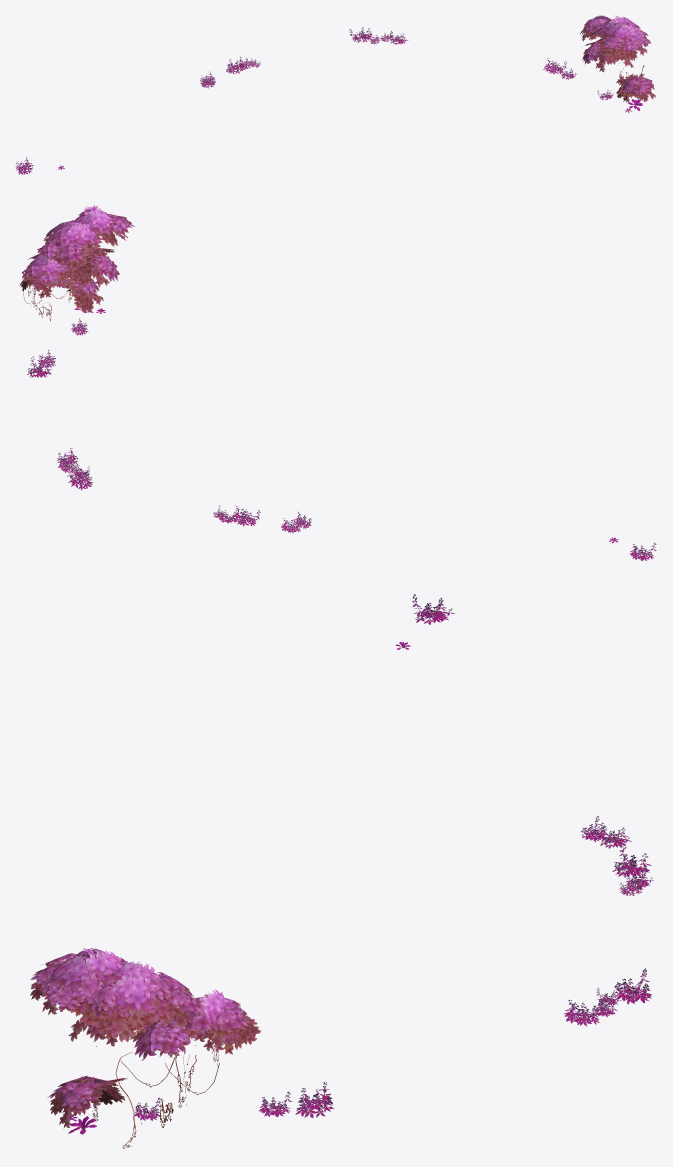
The model's file is zhibei13_1.fbx.
The picture shows the model from 3 angles, top to bottom: view 1: azimuth 30°, elevation 25°; view 2: azimuth 150°, elevation 25°; view 3: azimuth 270°, elevation 25°; orthographic projection. The views are drawn at different scales.
Parts seen in each view (by area): view 1: zhibei13_1; view 2: zhibei13_1; view 3: zhibei13_1.
Part boxes in pixels (<box>): zhibei13_1: <box>15,15,655,174</box>; zhibei13_1: <box>19,205,656,560</box>; zhibei13_1: <box>30,594,653,1148</box>.
Bounding box in the file's own units: 7887 × 1192 × 3900.
